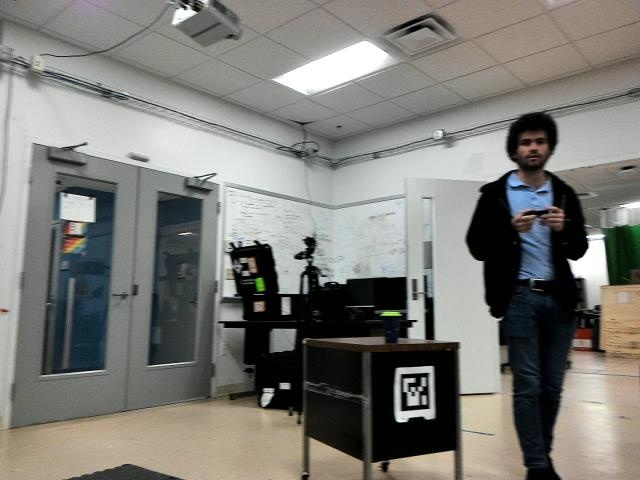useless_cup: (377, 307, 403, 344)
